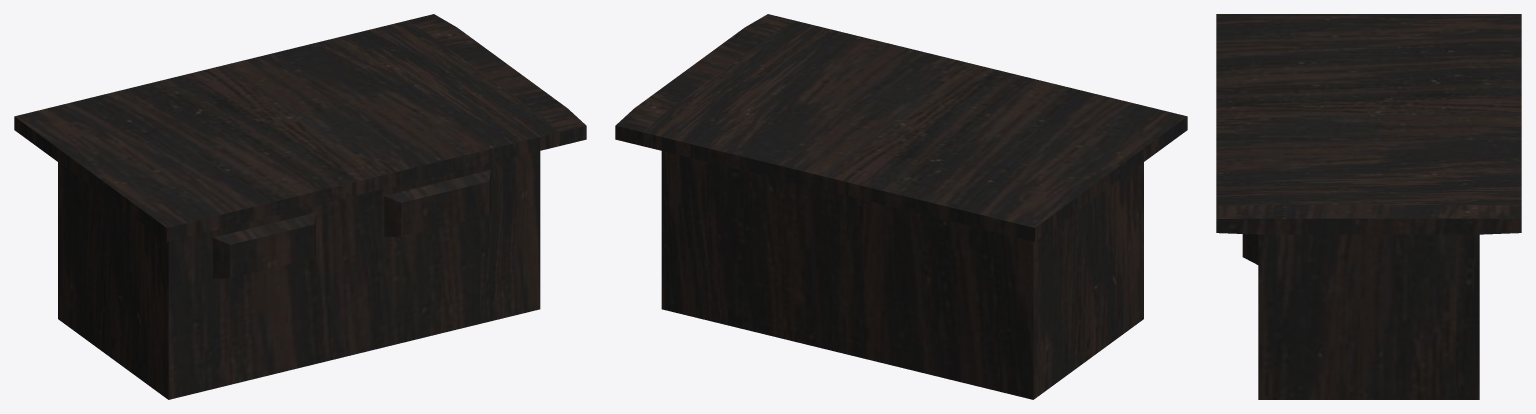
3 renders of one model, left to right at view 1: azimuth 30°, elevation 25°; view 2: azimuth 150°, elevation 25°; view 3: azimuth 270°, elevation 25°, orthographic.
Visible parts, largest first — view 1: pCube1; view 2: pCube1; view 3: pCube1.
Boxes of the visible parts, x1,y1,x2,y2 form: pCube1: [14, 14, 586, 399]; pCube1: [615, 14, 1187, 399]; pCube1: [1216, 14, 1521, 399].
Bounding box in the file's own units: 1.69 × 0.742 × 1.06.
Materials: 1 (1 with a texture image).
